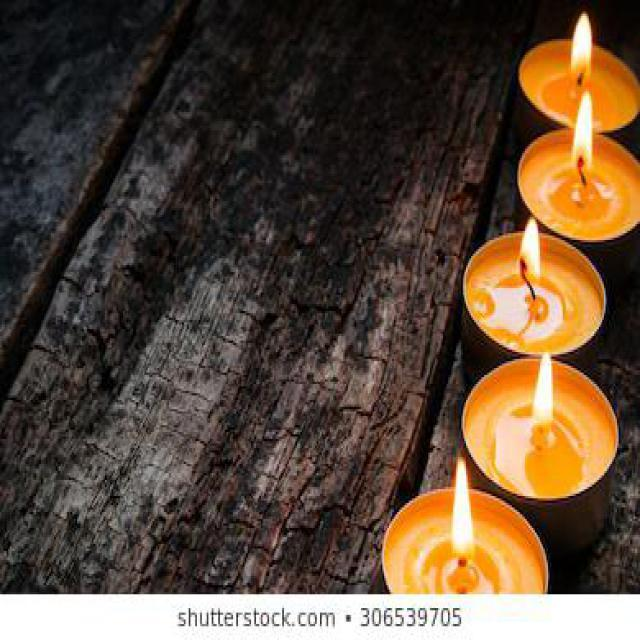Fire: (452, 458, 474, 564), (572, 91, 594, 183), (533, 350, 553, 443), (519, 216, 541, 291), (570, 13, 592, 86)
